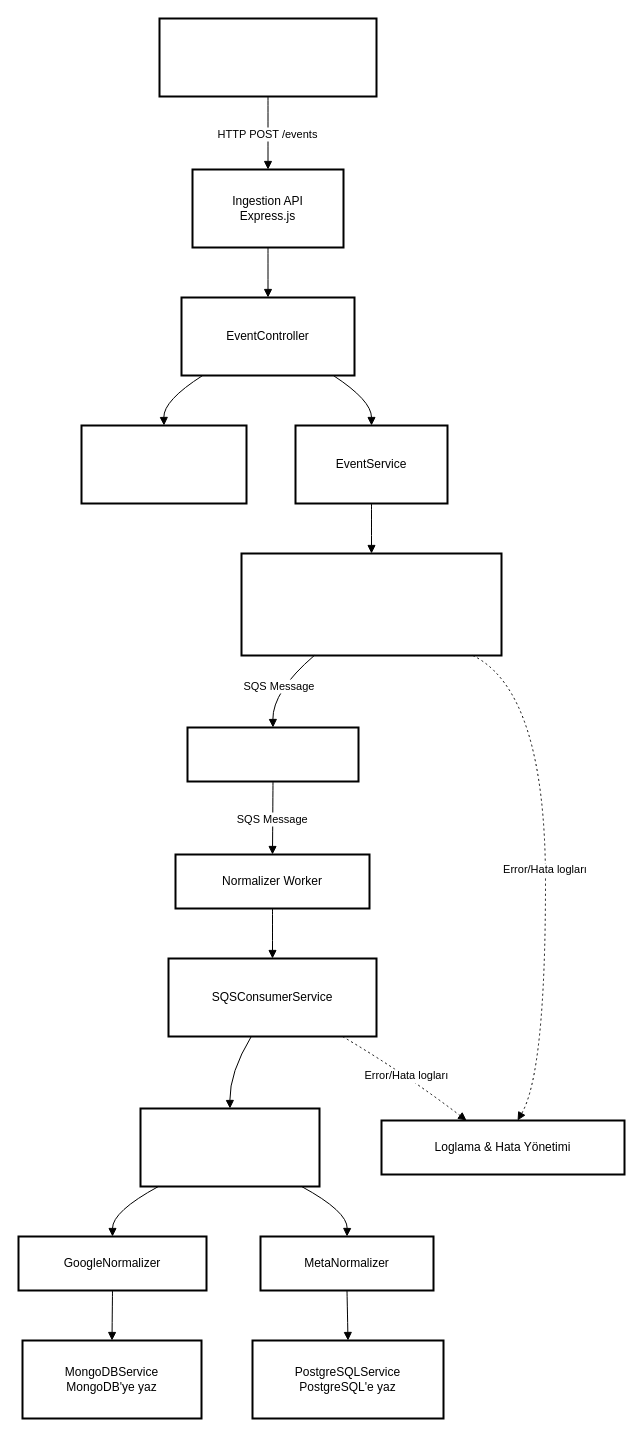
This 642x1436 diagram has some shape labels left out. Here are the shapes that lost their labels. From the top down, the box of each, then its label:
(158, 17, 377, 97): Client
(80, 424, 247, 504): EventValidator
(240, 552, 502, 656): SQSMessageQueueService AWS SQS'ye gönderim (batch/tekli)
(186, 726, 359, 782): AWS SQS Queue
(139, 1107, 320, 1187): EventProcessor Normalize etme
